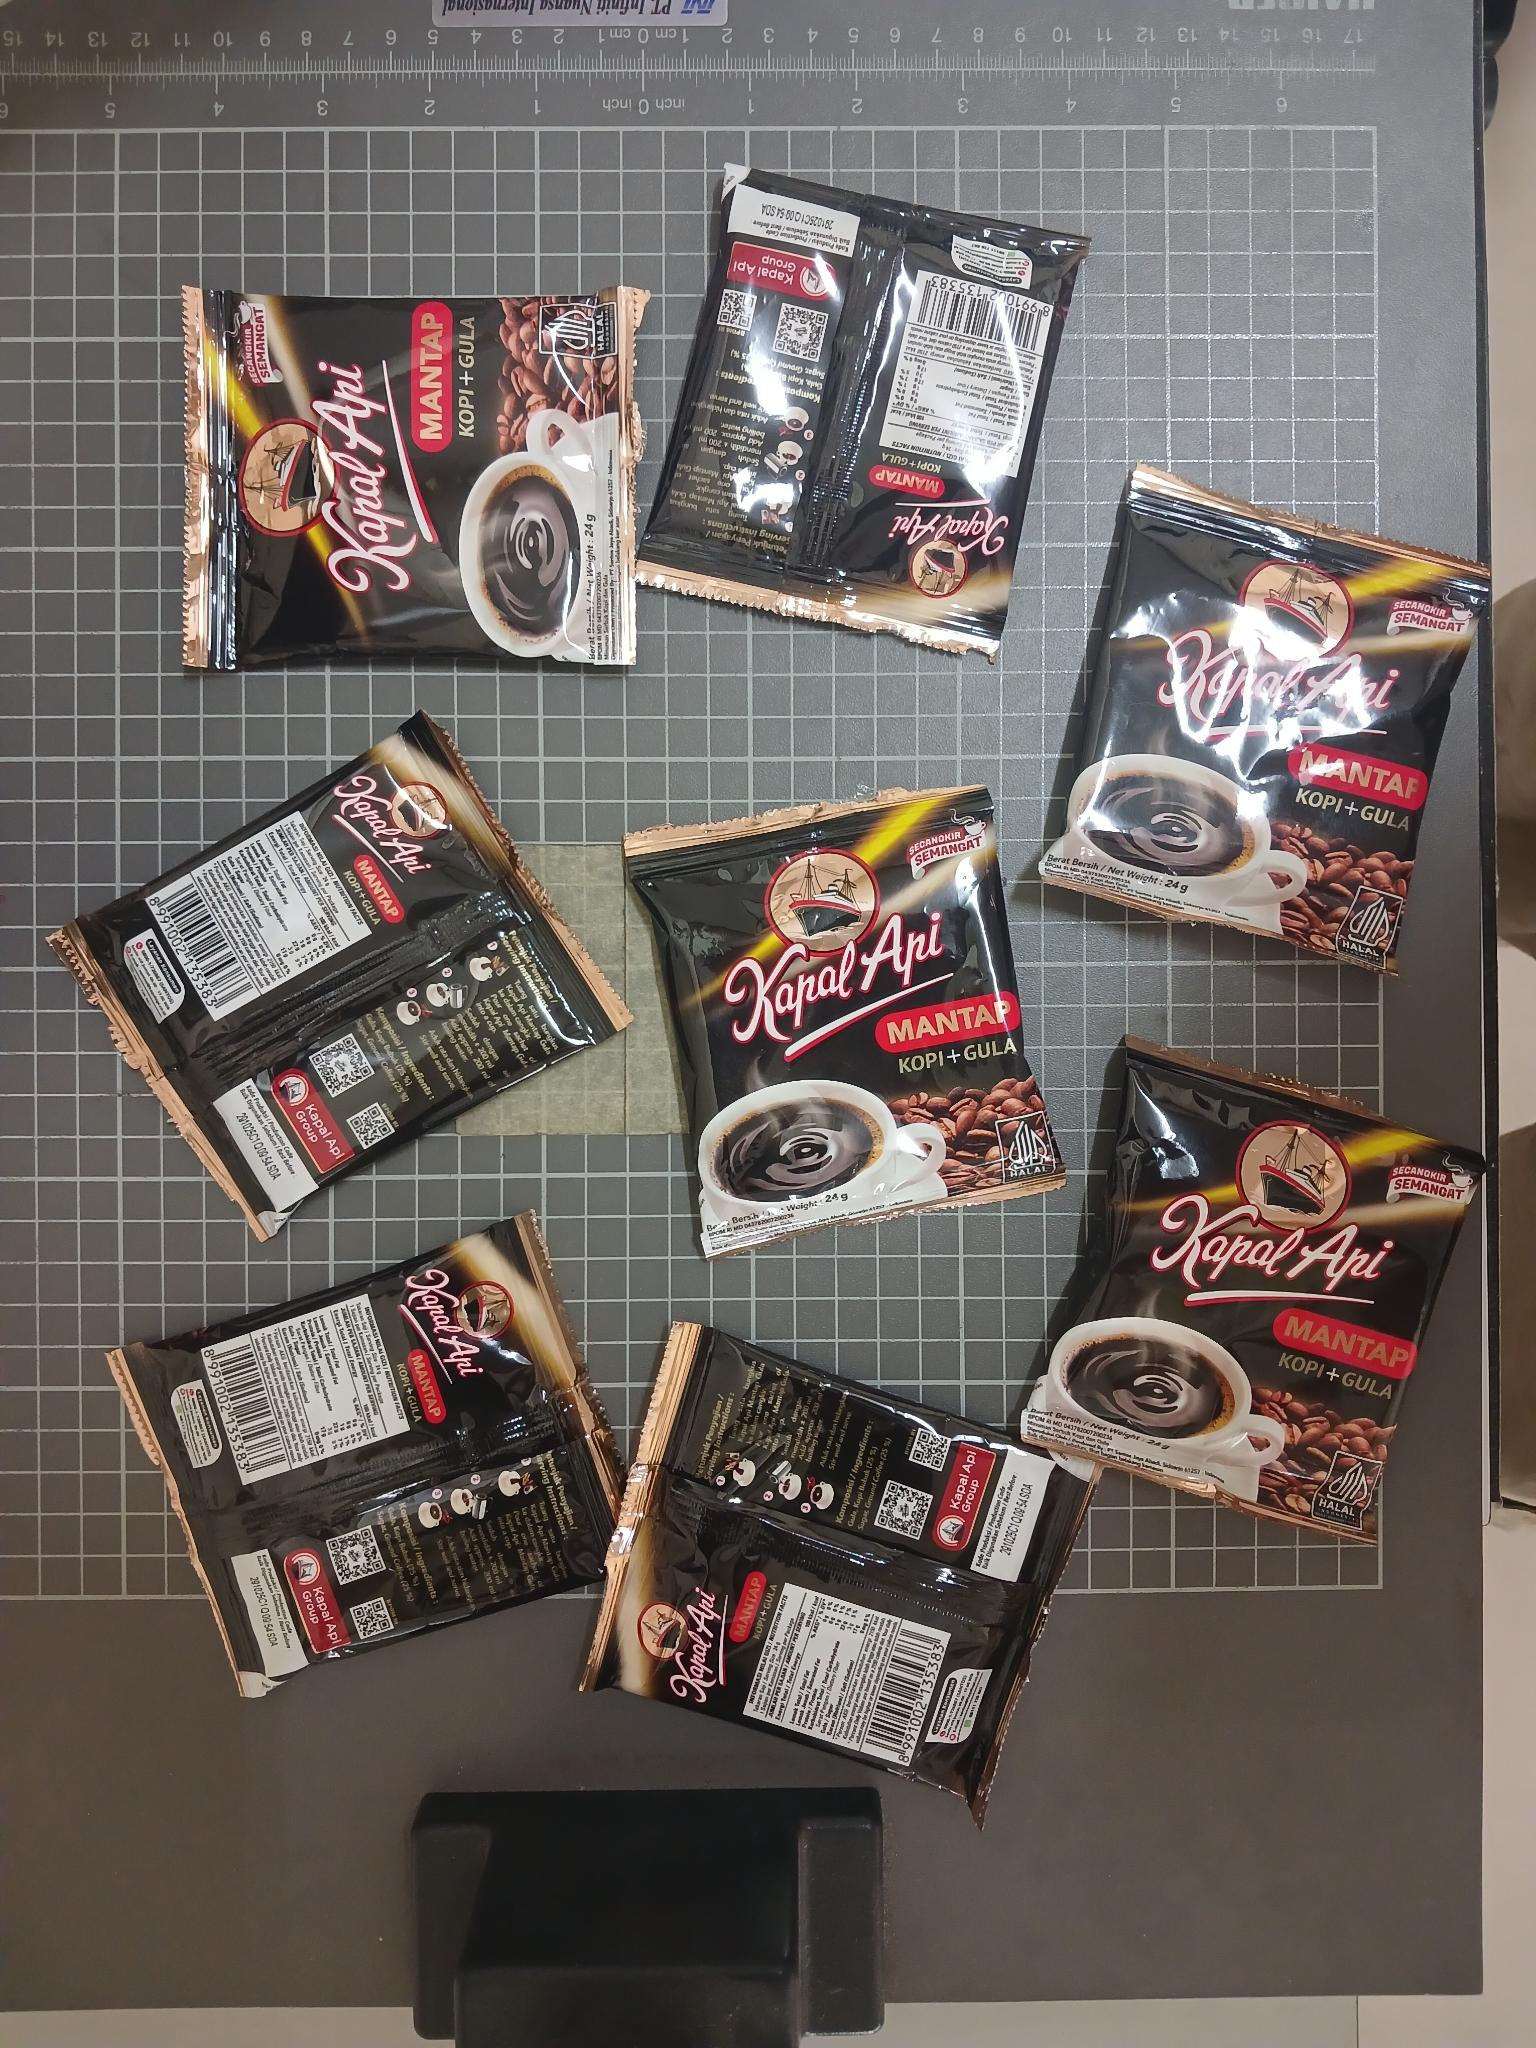back: (50, 700, 637, 1247), (105, 1206, 658, 1703), (570, 1319, 1105, 1817), (620, 160, 1097, 664)
front: (1018, 1032, 1491, 1551), (1037, 460, 1494, 982), (621, 777, 1071, 1264), (179, 282, 644, 669)
